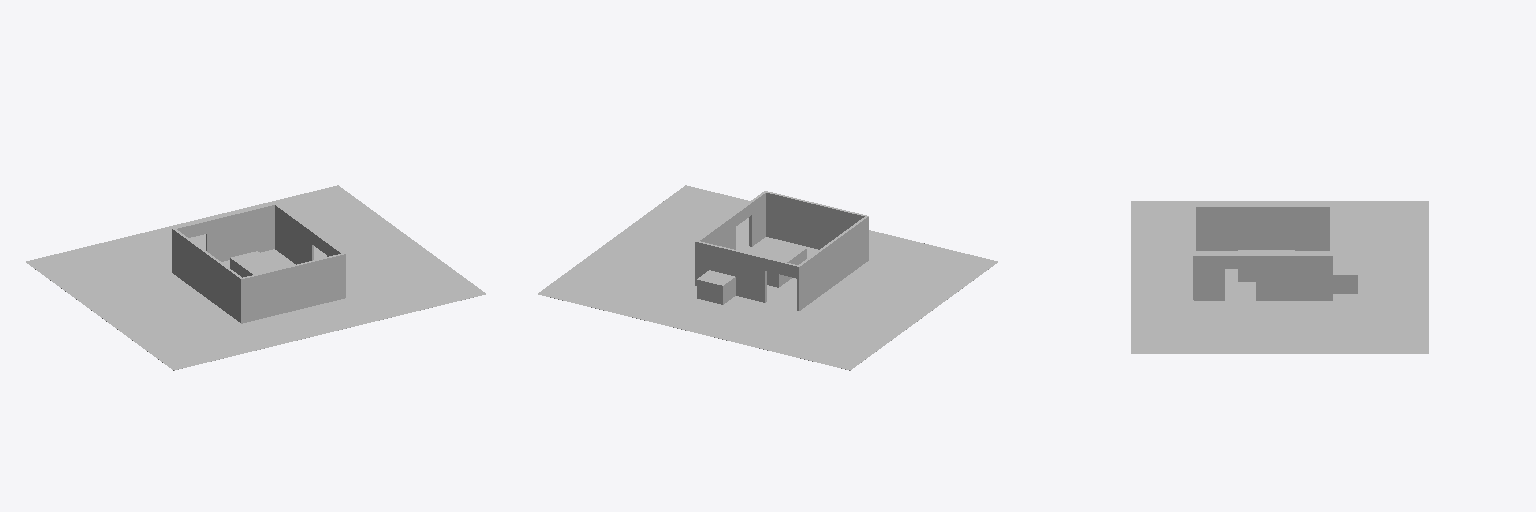
File: level.obj
3 views of the same model, side by side, from view 1: azimuth 30°, elevation 25°; view 2: azimuth 150°, elevation 25°; view 3: azimuth 270°, elevation 25° (orthographic).
Parts seen in each view (by area): view 1: Floor, building1_wall4, building1_wall5, building1_wall1, building1_wall3, box1.001; view 2: Floor, building1_wall4, building1_wall5, building1_wall1, box1, box1.001, building1_wall3, building1_wall2; view 3: Floor, building1_wall5, building1_wall3, building1_wall2, box1.
Boxes of the visible parts, x1,y1,x2,y2 form: Floor: [26, 185, 485, 370]; building1_wall4: [240, 253, 344, 323]; building1_wall5: [172, 228, 241, 321]; building1_wall1: [206, 204, 274, 261]; building1_wall3: [274, 203, 313, 264]; box1.001: [230, 251, 279, 277]; Floor: [538, 185, 997, 370]; building1_wall4: [766, 191, 868, 260]; building1_wall5: [797, 216, 867, 310]; building1_wall1: [698, 241, 766, 302]; box1: [697, 270, 735, 304]; box1.001: [760, 241, 806, 287]; building1_wall3: [695, 214, 735, 285]; building1_wall2: [749, 191, 766, 246]; Floor: [1131, 201, 1428, 353]; building1_wall5: [1196, 205, 1332, 250]; building1_wall3: [1256, 255, 1332, 300]; building1_wall2: [1194, 255, 1224, 300]; box1: [1333, 262, 1357, 293].
Bounding box in the file's own units: 208 × 28.37 × 171.